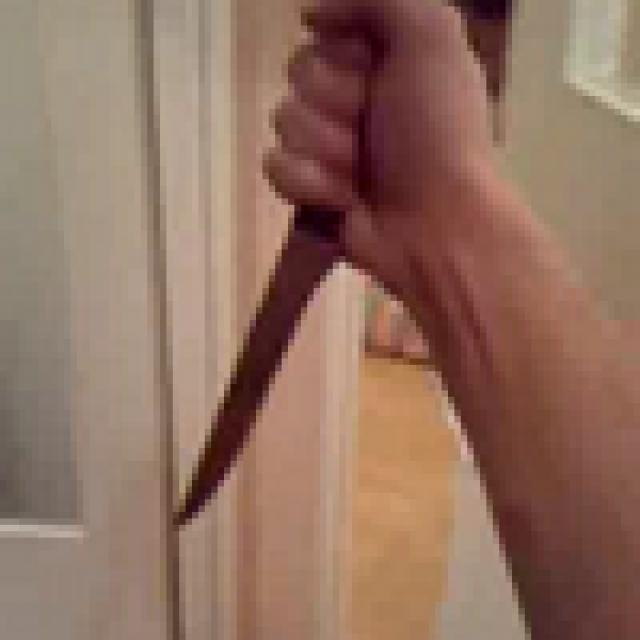knife: (166, 6, 378, 525)
